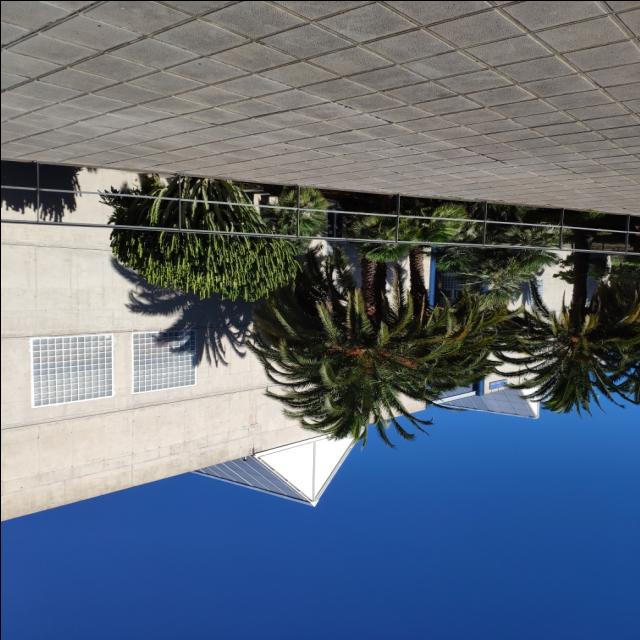Palm-Trees: (260, 247, 464, 436)
